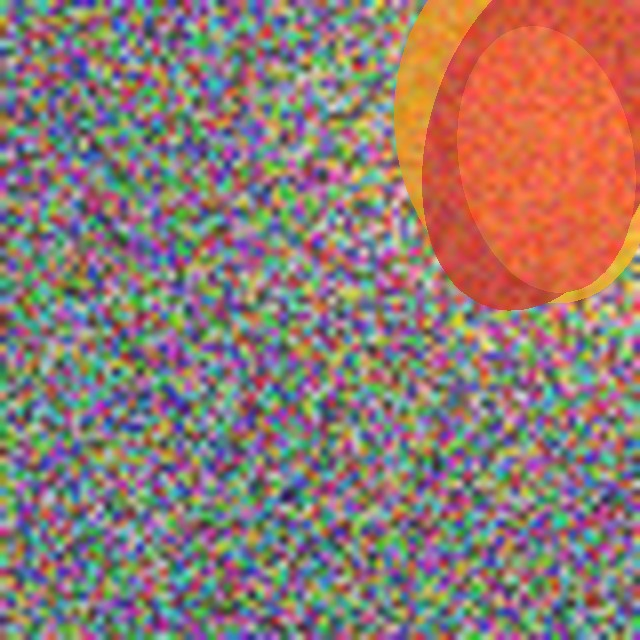fire: (465, 17, 623, 297)
